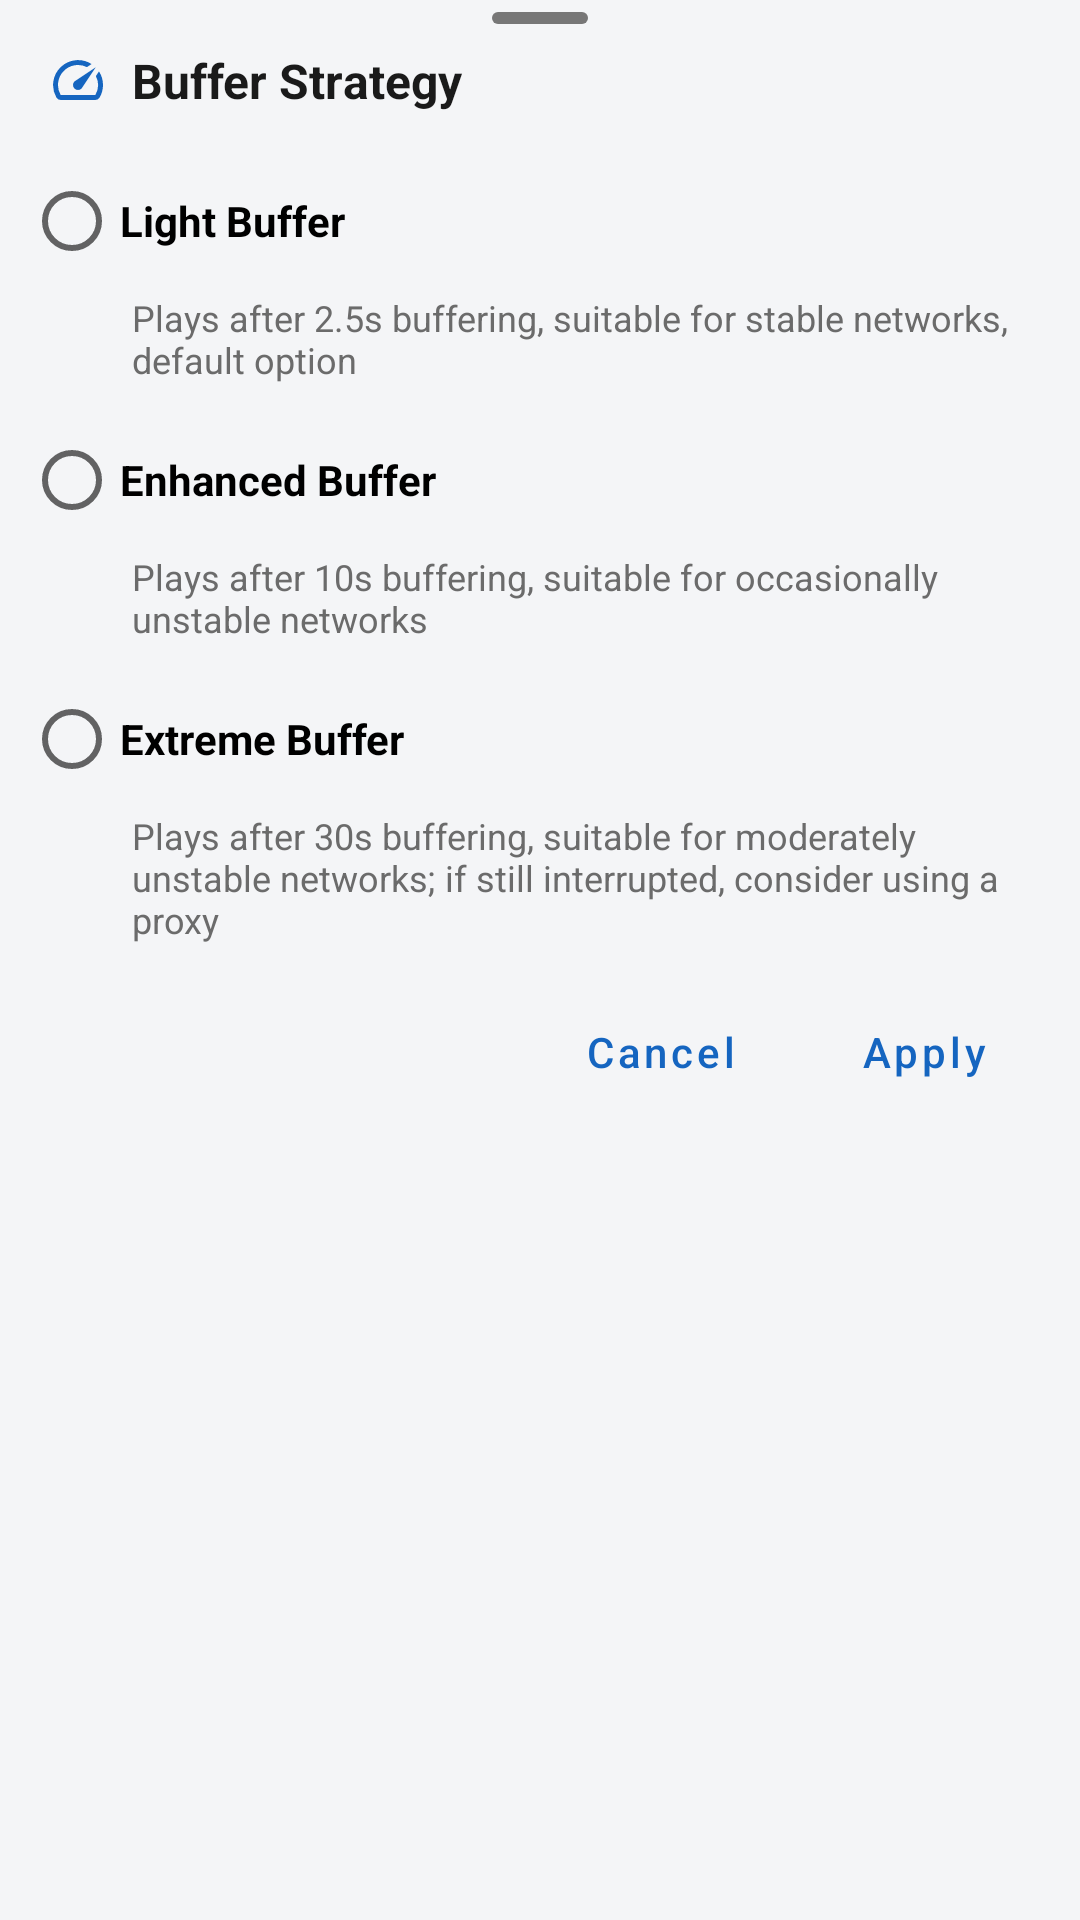

Named icons in this screenshot (1080*1920) and their bounding boxes, [x1,y1,x2,y2]:
buffer settings: [53,60,103,100]
